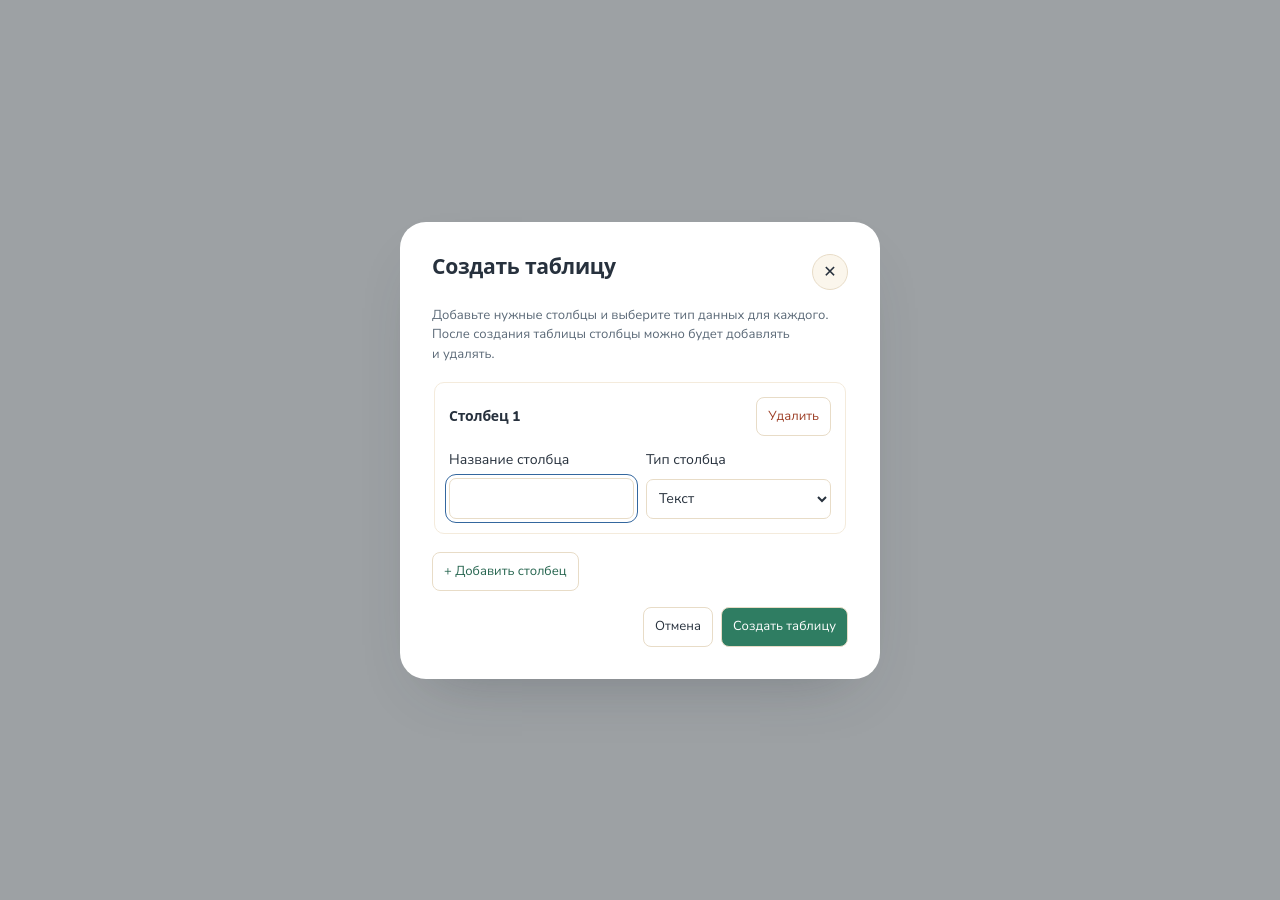
Test: не создаёт таблицу без столбцов и позволяет добавить столбец заново
Click the button with aria-label "Удалить столбец 1" at (794, 417), box x1=756 y1=397 x2=831 y2=436
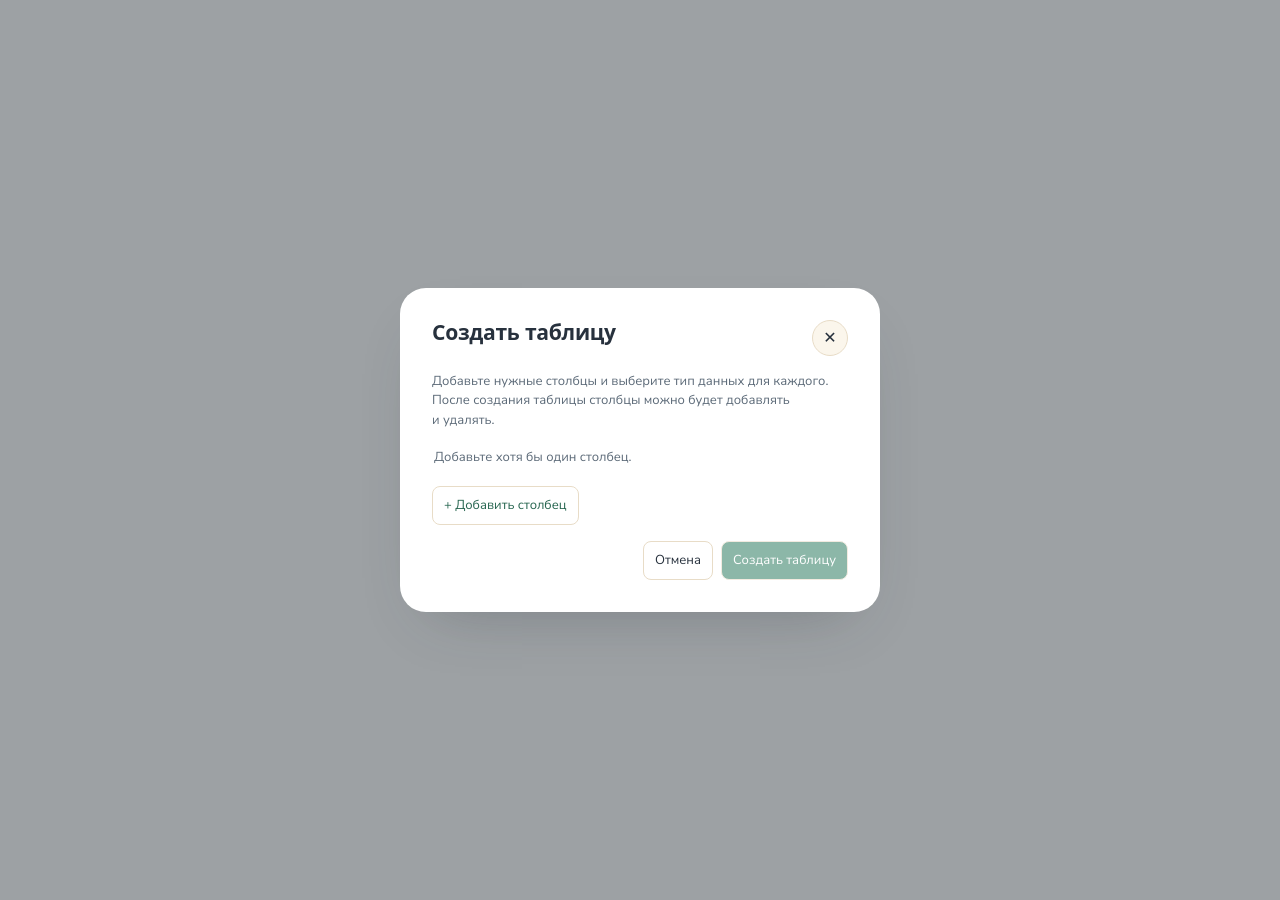
Check: the button "Создать таблицу" is disabled, box x1=721 y1=541 x2=848 y2=580
Click the button "+ Добавить столбец" at (505, 505), box x1=432 y1=486 x2=578 y2=525
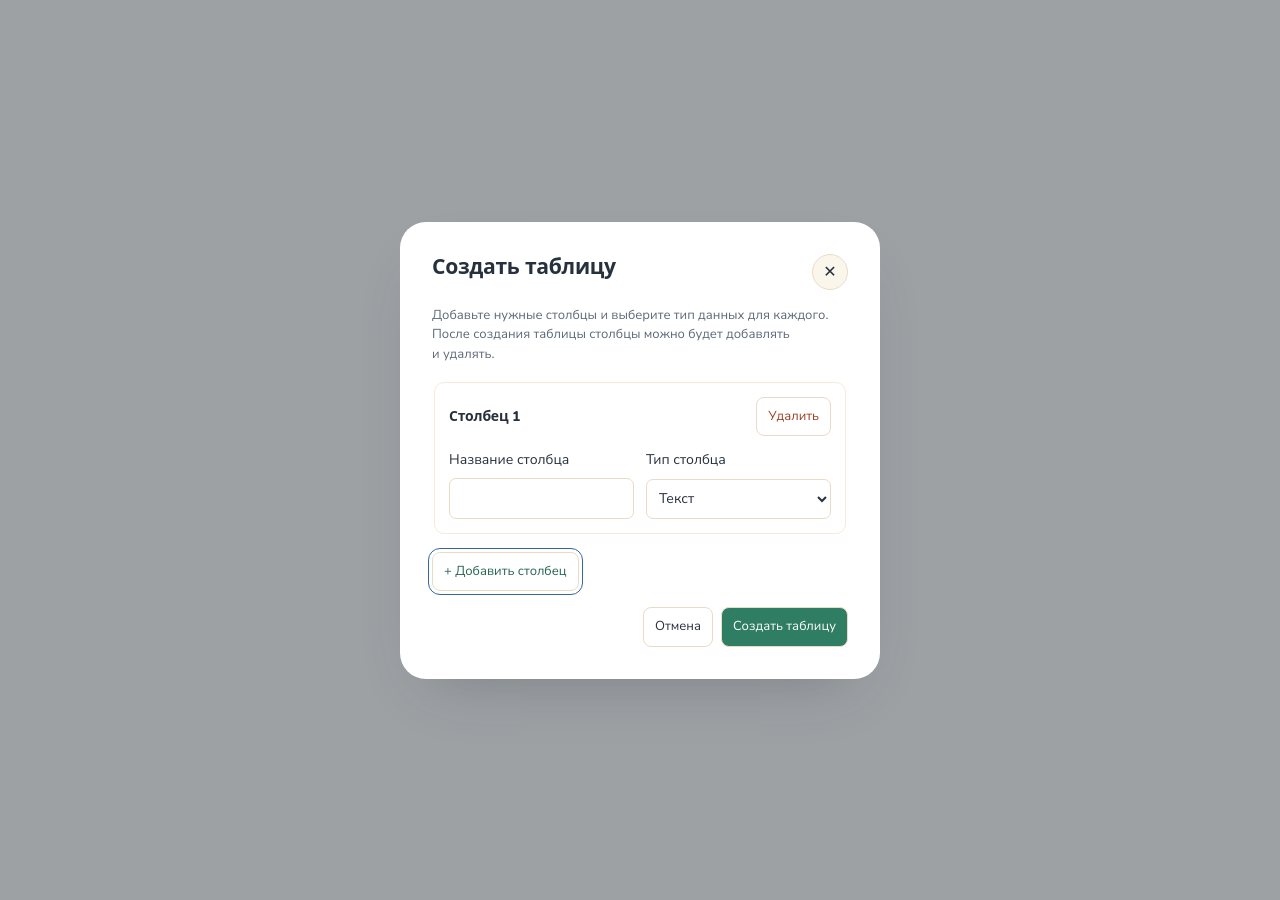
Check: the field labelled "Название столбца" is empty, box x1=449 y1=478 x2=634 y2=519
Check: the button "Создать таблицу" is enabled, box x1=721 y1=607 x2=848 y2=646
